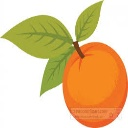orange: (59, 36, 128, 128)
